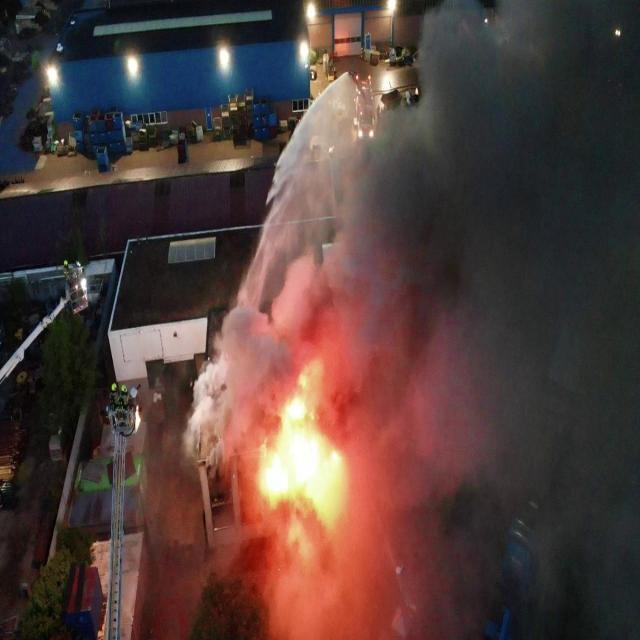Fire: (289, 433, 320, 486), (266, 454, 288, 494), (286, 398, 306, 420), (332, 450, 339, 468)
Smoke: (179, 0, 640, 640)
